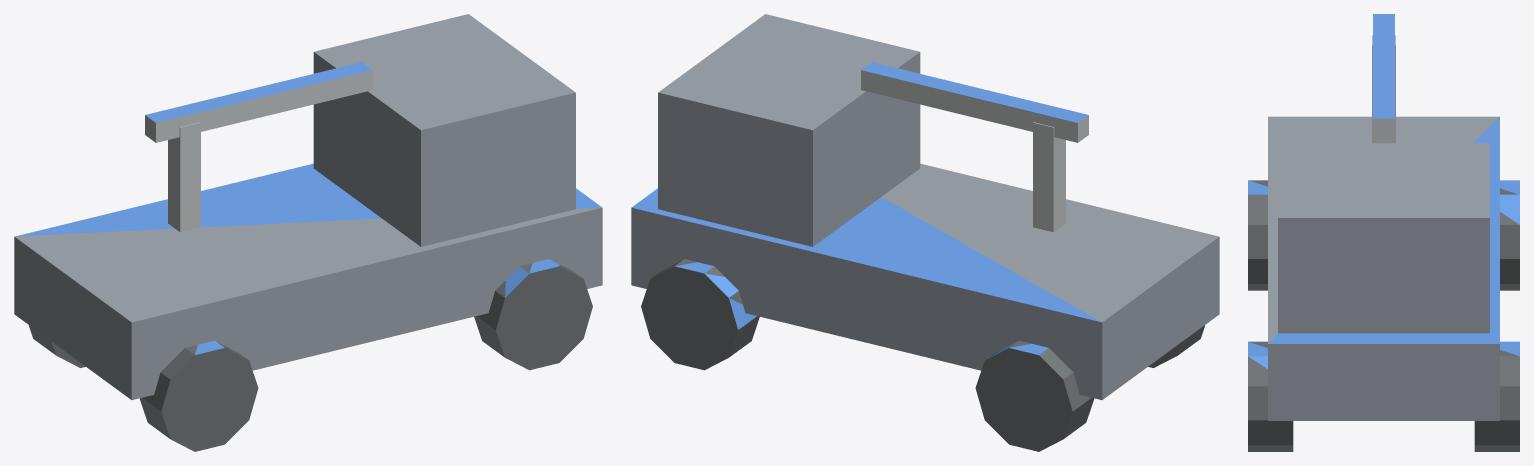
File: veyran_repair_truck.glb
3 renders of one model, left to right at view 1: azimuth 30°, elevation 25°; view 2: azimuth 150°, elevation 25°; view 3: azimuth 270°, elevation 25°, orthographic.
Parts seen in each view (by area): view 1: hull, crane; view 2: hull, crane; view 3: hull, crane.
Boxes of the visible parts, x1,y1,x2,y2 form: hull: [14, 14, 602, 451]; crane: [145, 62, 372, 232]; hull: [631, 14, 1219, 451]; crane: [861, 62, 1088, 232]; hull: [1248, 116, 1519, 451]; crane: [1372, 14, 1395, 143].
Bounding box in the file's own units: 4.94 × 2.78 × 2.5.
